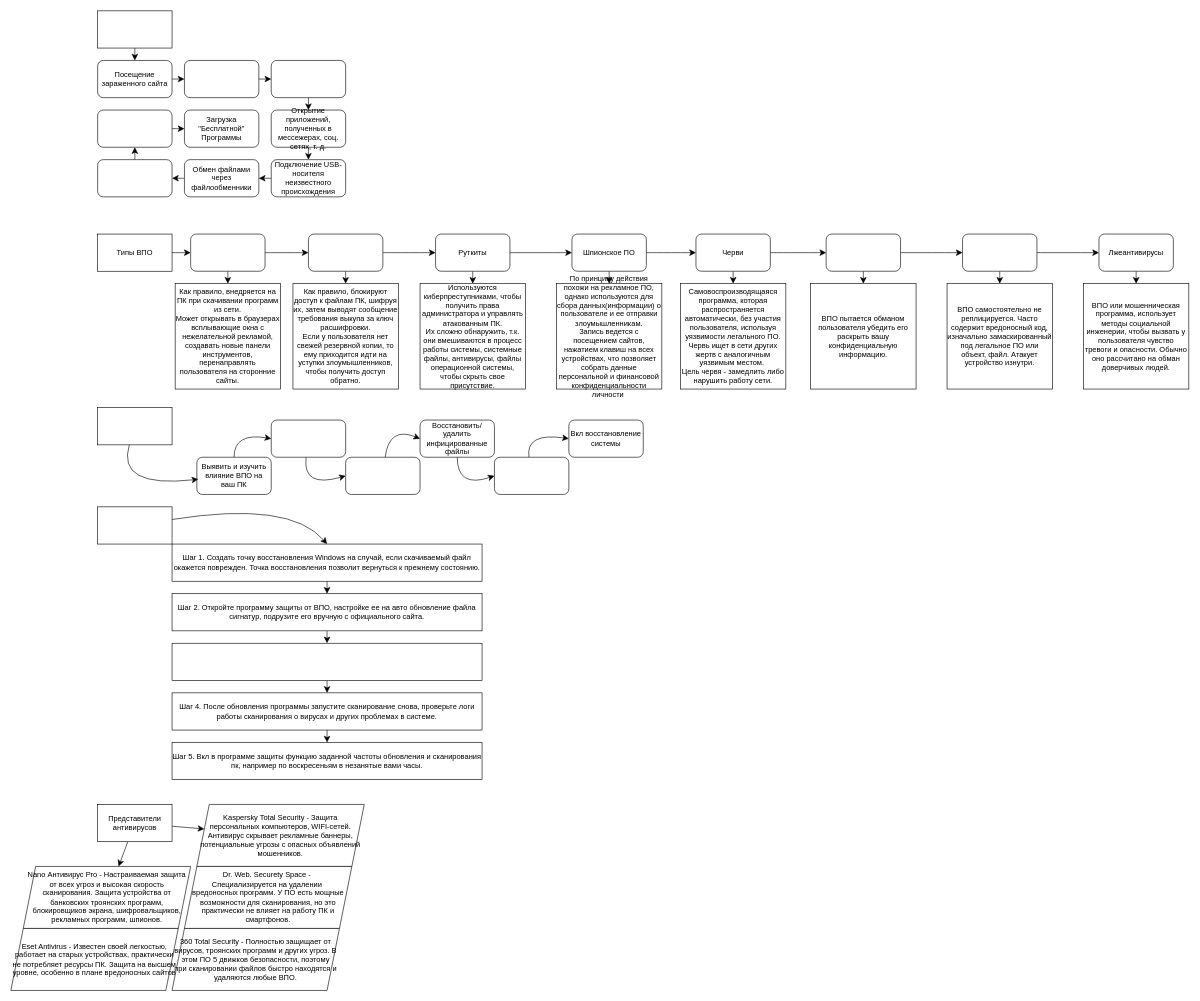
Some shapes in this 1200 by 1001 pixel diagram are drawn without their labels. The centre of each missing label's shape, as x and y in pixels:
"Веб-браузер с уязвимостями" belongs at (x=221, y=79).
"Запланировать сканирование системы" belongs at (x=531, y=475).
"Заражение ПК через другой хост" belongs at (x=308, y=79).
"Использование устаревшего антивирусного ПО" belongs at (x=134, y=128).
"Источники Вредоносного ПО" belongs at (x=134, y=29).
"Отключить восстановление системы" belongs at (x=382, y=475).
"Открытие не запрошенного эл. письма" belongs at (x=134, y=178).
"Отправить зараженные файлы в карантин" belongs at (x=308, y=438).
"Программы-вымогатели" belongs at (x=345, y=252).
"Процедуры для удаления ВПО" belongs at (x=134, y=426).
"Рекламное ПО" belongs at (x=227, y=252).
"Троянский конь" belongs at (x=999, y=252).
"Фишинг" belongs at (x=863, y=252).
"Шаг 3. Обновите систему" belongs at (x=326, y=661).
"Шаги обновления файла сигнатур для программы защиты от ВПО" belongs at (x=134, y=525).
